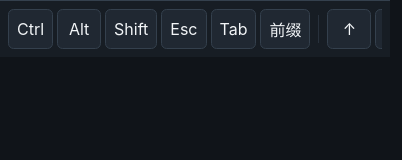
Scenario: MobileKeyBar › keeps the platform-neutral modifier state reactive in Vue
Click the button "Ctrl" at point(31, 29), box [8, 9, 53, 49]
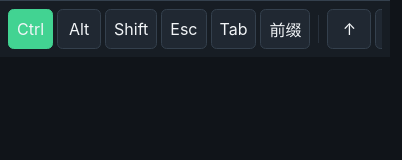
Expected: the button "Ctrl" is pressed
Click the button "Ctrl" at point(31, 29), box [8, 9, 53, 49]
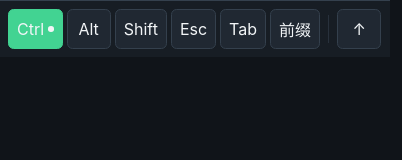
Expected: the element with class "locked-indicator" is shown, [48, 26, 54, 32]
